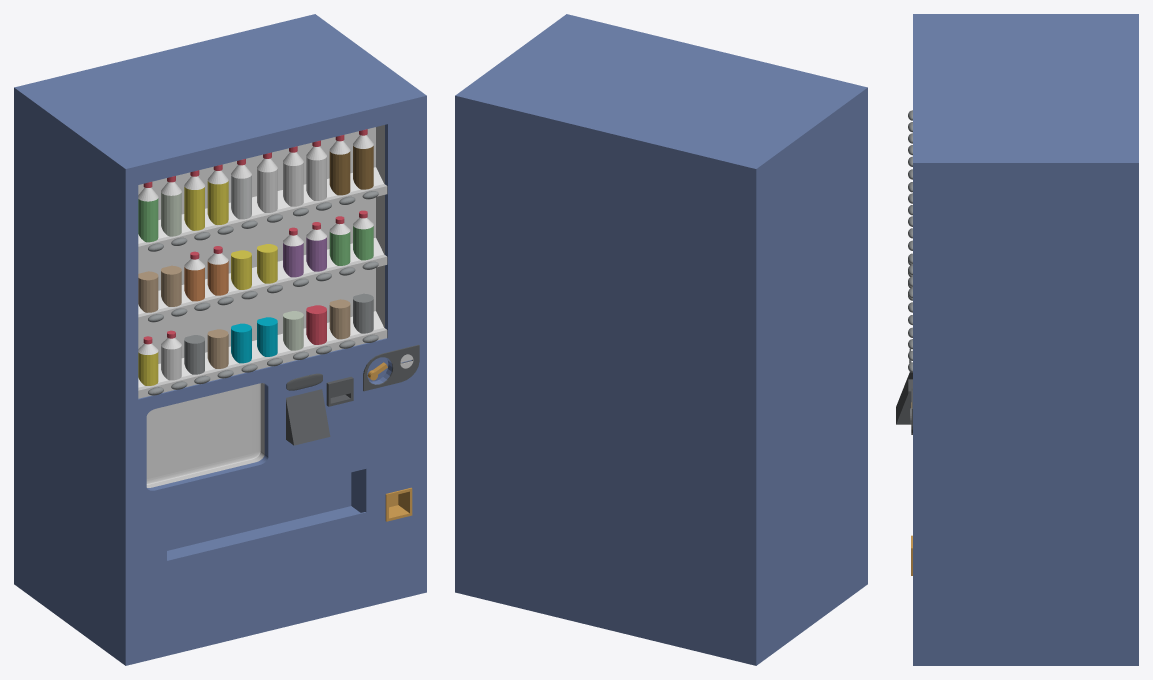
Rendered from asset.glb.
The picture shows the model from 3 angles, left to right: view 1: azimuth 30°, elevation 25°; view 2: azimuth 150°, elevation 25°; view 3: azimuth 270°, elevation 25°; orthographic projection.
Visible parts, largest first — view 1: Mesh_Mesh_head_geo.001_lambert2SG.001; view 2: Mesh_Mesh_head_geo.001_lambert2SG.001; view 3: Mesh_Mesh_head_geo.001_lambert2SG.001.
Boxes of the visible parts, <box> form: Mesh_Mesh_head_geo.001_lambert2SG.001: <box>14,14,426,665</box>; Mesh_Mesh_head_geo.001_lambert2SG.001: <box>455,14,867,665</box>; Mesh_Mesh_head_geo.001_lambert2SG.001: <box>896,14,1138,665</box>.
Bounding box in the file's own units: 11.61 × 18.3 × 8.
